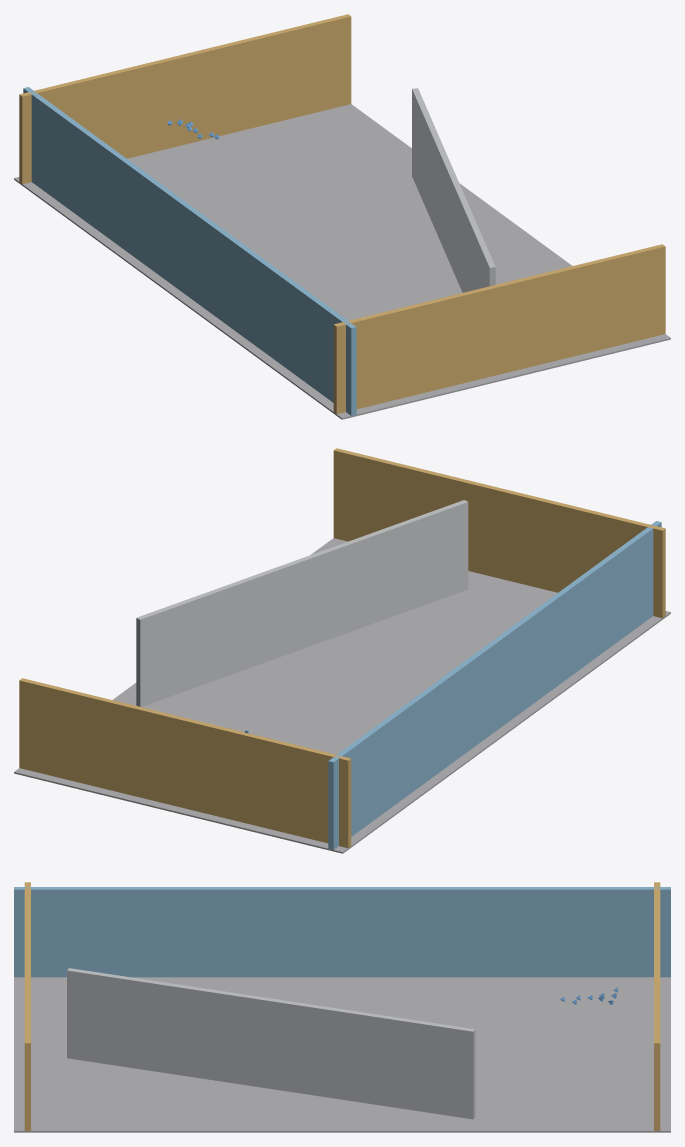
Rendered from planevue_video_sample_room_demo.glb.
3 renders of one model, top to bottom at view 1: azimuth 30°, elevation 25°; view 2: azimuth 150°, elevation 25°; view 3: azimuth 270°, elevation 25°, orthographic.
Parts seen in each view (by area): view 1: floor_slab, wall_cmp_1_generated, wall_cmp_3_inferred, wall_cmp_2_generated, wall_obs_1; view 2: floor_slab, wall_obs_1, wall_cmp_2_generated, wall_cmp_3_inferred, wall_cmp_1_generated; view 3: floor_slab, wall_cmp_3_inferred, wall_obs_1, wall_cmp_1_generated, wall_cmp_2_generated.
Part boxes in pixels (<box>): floor_slab: <box>14,104,670,419</box>; wall_cmp_1_generated: <box>333,244,665,414</box>; wall_cmp_3_inferred: <box>23,87,356,415</box>; wall_cmp_2_generated: <box>19,14,351,184</box>; wall_obs_1: <box>412,88,495,292</box>; floor_slab: <box>14,538,670,853</box>; wall_obs_1: <box>136,500,468,706</box>; wall_cmp_2_generated: <box>19,678,351,848</box>; wall_cmp_3_inferred: <box>328,521,661,849</box>; wall_cmp_1_generated: <box>333,448,665,618</box>; floor_slab: <box>14,977,670,1132</box>; wall_cmp_3_inferred: <box>14,887,670,977</box>; wall_obs_1: <box>67,968,475,1119</box>; wall_cmp_1_generated: <box>24,882,30,1130</box>; wall_cmp_2_generated: <box>654,882,660,1130</box>.
Size of the model in its own units: 11 by 2.85 by 19.
